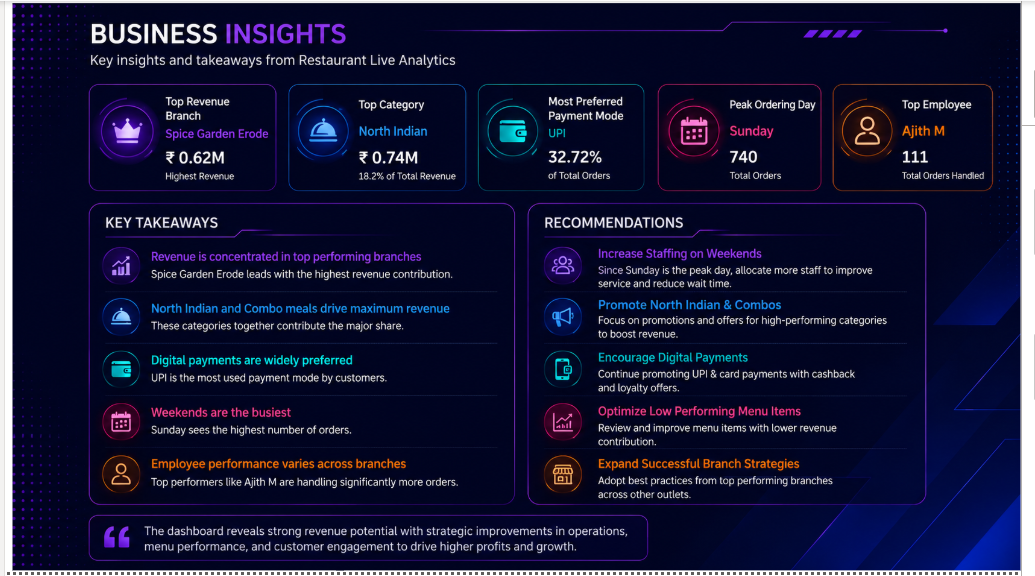

The page's visual inventory and layout, read from the dashboard file:
{"tool":"powerbi","page":{"name":"Page 2","canvas":[1280,720],"ordinal":1},"visuals":[{"type":"image","box":[9.4,0,1269.9,720],"z":0}]}

Visuals, with their boxes in screenshot pixels (x1, y1, x2, y2), scaled from the page's 1280x720 canvas onto the 1035x576 screenshot:
image: l=8, t=0, r=1034, b=575
